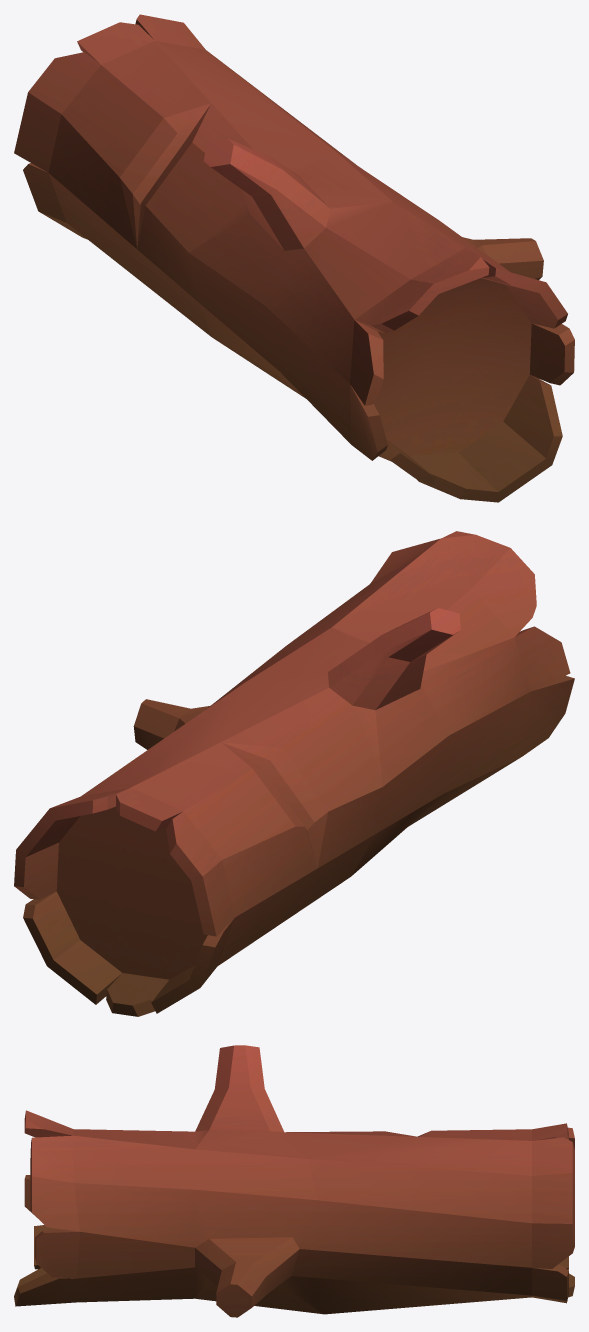
3 renders of one model, top to bottom at view 1: azimuth 30°, elevation 25°; view 2: azimuth 150°, elevation 25°; view 3: azimuth 270°, elevation 25°, orthographic. The views are drawn at different scales.
Visible parts, largest first — view 1: TreeTrunk1; view 2: TreeTrunk1; view 3: TreeTrunk1.
Boxes of the visible parts, x1,y1,x2,y2 form: TreeTrunk1: [14, 14, 574, 502]; TreeTrunk1: [14, 531, 574, 1016]; TreeTrunk1: [14, 1045, 574, 1317].
Bounding box in the file's own units: 71.64 × 60 × 142.
Materials: 1 (1 with a texture image).
